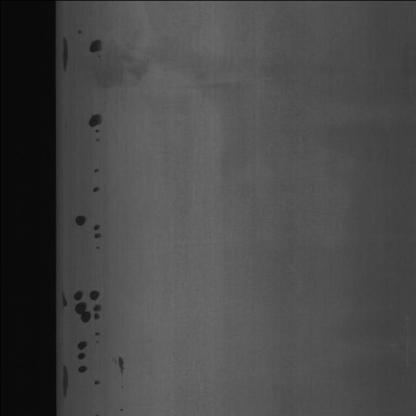oil_spot: (58, 273, 126, 400), (70, 195, 104, 240), (84, 98, 109, 154), (59, 32, 76, 88), (84, 27, 101, 68)
